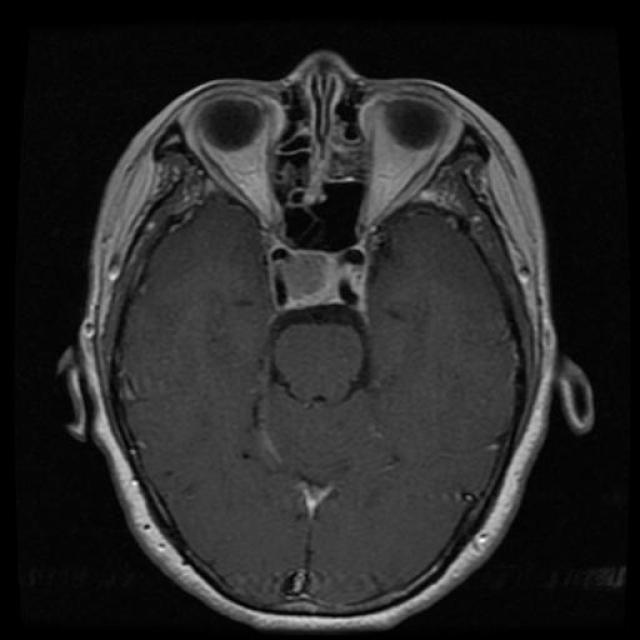pituitary: (266, 248, 380, 323)
